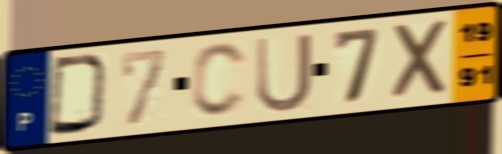7: (330, 26, 386, 106), (119, 47, 168, 130)
C: (188, 40, 251, 120)
D: (46, 53, 112, 138)
U: (253, 30, 316, 116)
X: (391, 16, 453, 104)
